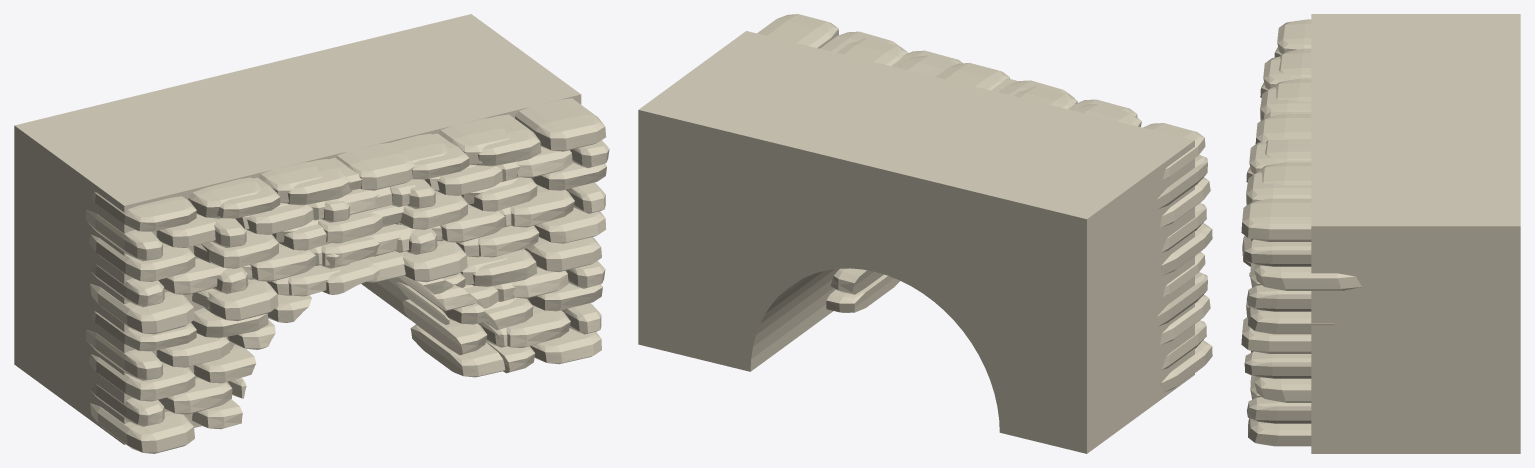
File: Spectacular Rottis.glb
The picture shows the model from 3 angles, left to right: view 1: azimuth 30°, elevation 25°; view 2: azimuth 150°, elevation 25°; view 3: azimuth 270°, elevation 25°; orthographic projection. The views are drawn at different scales.
Visible parts, largest first — view 1: Mesh_Mesh_head_geo.001_lambert2SG.001; view 2: Mesh_Mesh_head_geo.001_lambert2SG.001; view 3: Mesh_Mesh_head_geo.001_lambert2SG.001.
Boxes of the visible parts, x1,y1,x2,y2 form: Mesh_Mesh_head_geo.001_lambert2SG.001: (14,14,609,453); Mesh_Mesh_head_geo.001_lambert2SG.001: (638,14,1212,453); Mesh_Mesh_head_geo.001_lambert2SG.001: (1241,14,1520,453).
Bounding box in the file's own units: 36.65 × 18 × 20.
